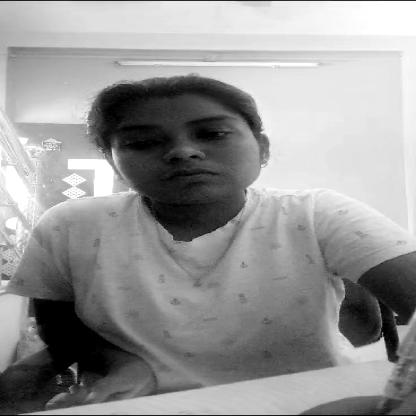Normal: (86, 84, 305, 206)
